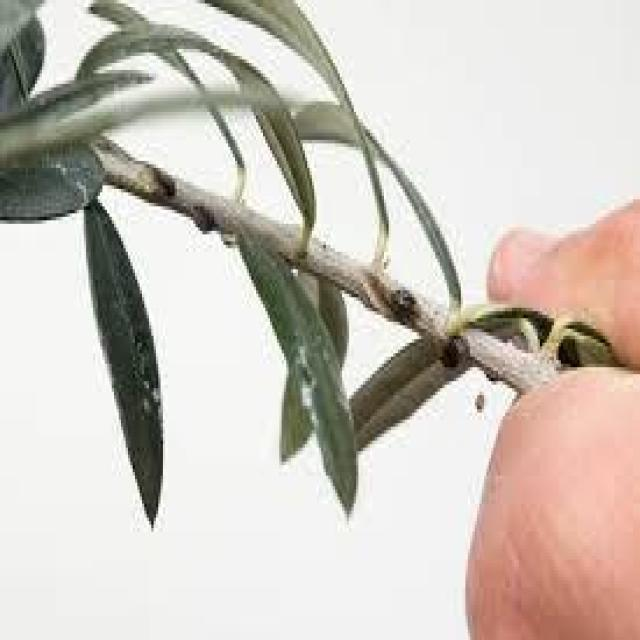Black Scale: (389, 288, 417, 321), (440, 339, 460, 370)
Psyllid: (240, 234, 356, 514)
